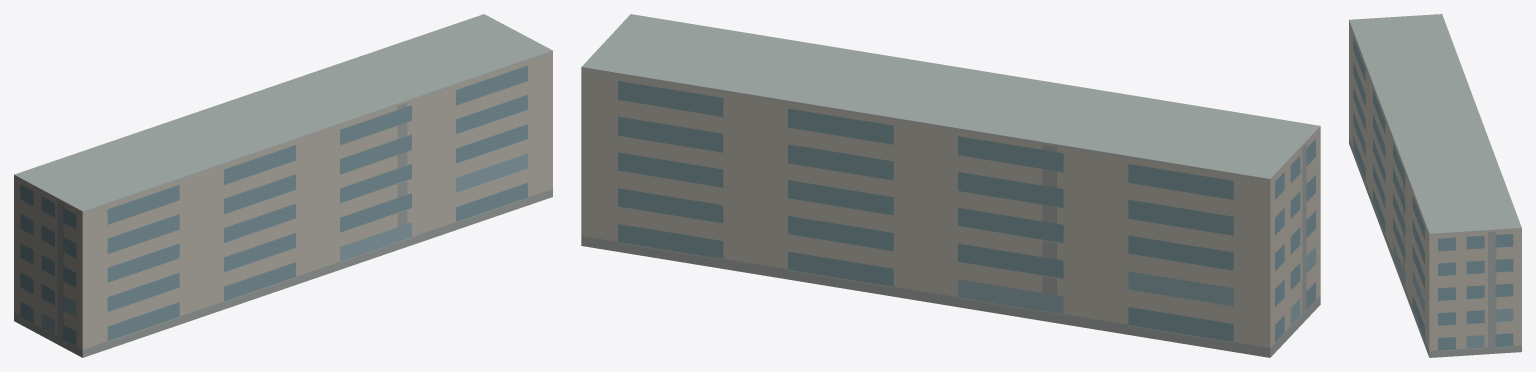
The model's file is survey-upis-32575677.glb.
3 views of the same model, side by side, from view 1: azimuth 30°, elevation 25°; view 2: azimuth 150°, elevation 25°; view 3: azimuth 270°, elevation 25° (orthographic). The views are drawn at different scales.
Visible parts, largest first — view 1: survey-upis-32575677.tmp; view 2: survey-upis-32575677.tmp; view 3: survey-upis-32575677.tmp.
Boxes of the visible parts, box(x1,y1,x2,y2) form: survey-upis-32575677.tmp: box(14, 14, 552, 357); survey-upis-32575677.tmp: box(581, 14, 1320, 357); survey-upis-32575677.tmp: box(1349, 14, 1521, 357).
Bounding box in the file's own units: 57.89 × 15.25 × 19.24.
